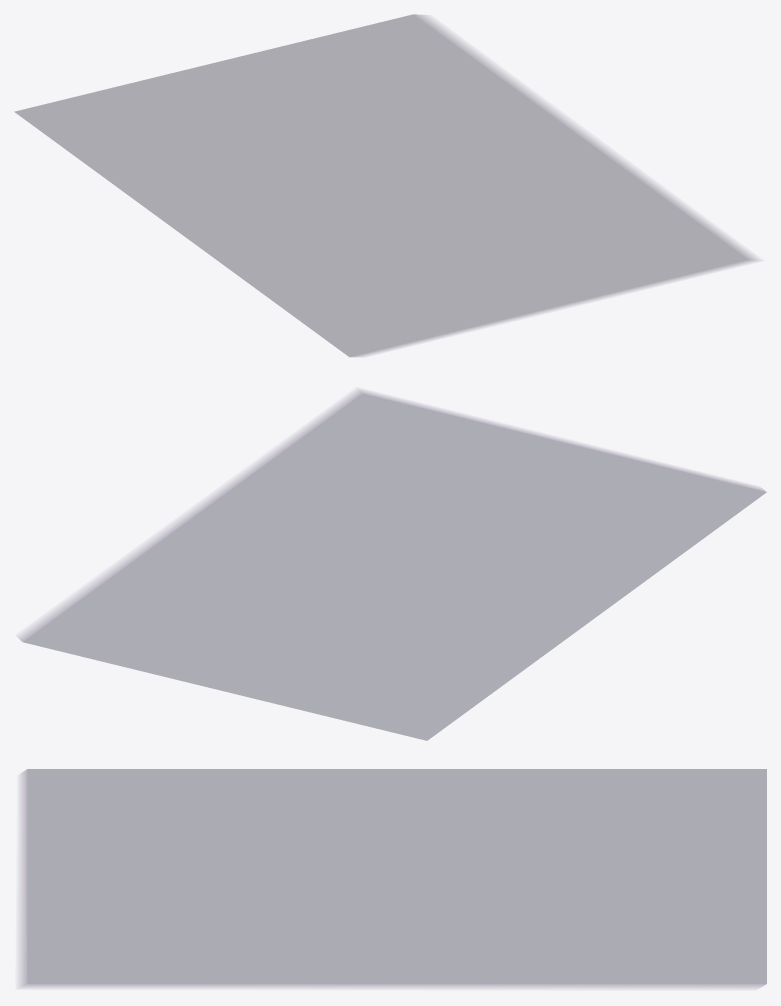
The picture shows the model from 3 angles, top to bottom: view 1: azimuth 30°, elevation 25°; view 2: azimuth 150°, elevation 25°; view 3: azimuth 270°, elevation 25°; orthographic projection. The views are drawn at different scales.
Visible parts, largest first — view 1: Joint_0_Object_0; view 2: Joint_0_Object_0; view 3: Joint_0_Object_0.
Boxes of the visible parts, left/top/right/bottom form: Joint_0_Object_0: left=15, top=14, right=757, bottom=356; Joint_0_Object_0: left=19, top=390, right=766, bottom=740; Joint_0_Object_0: left=20, top=769, right=766, bottom=987.
Size of the model in its own units: 518 by 0 by 740.
1 material, 1 textured.
